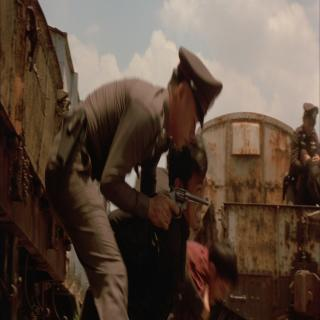gun: (151, 178, 209, 234)
